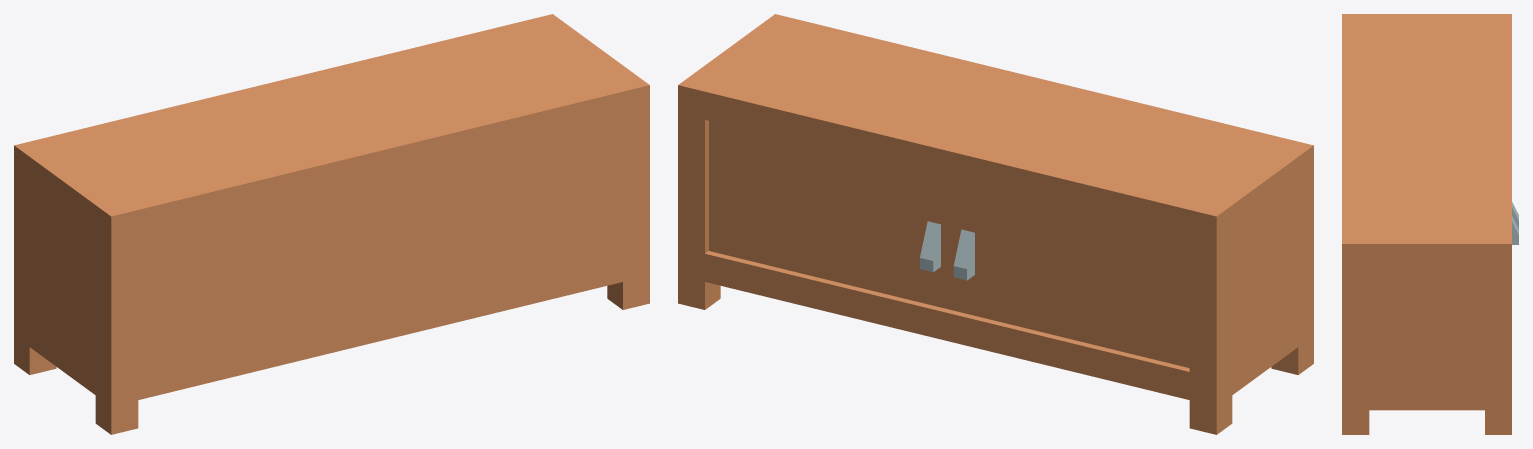
File: cabinetTelevisionDoors.fbx
3 views of the same model, side by side, from view 1: azimuth 30°, elevation 25°; view 2: azimuth 150°, elevation 25°; view 3: azimuth 270°, elevation 25° (orthographic). The views are drawn at different scales.
Visible parts, largest first — view 1: cabinetTelevisionDoors; view 2: cabinetTelevisionDoors, doorLeft, doorRight; view 3: cabinetTelevisionDoors.
Part boxes in pixels (x1=…): cabinetTelevisionDoors: x1=14, y1=14, x2=649, y2=434; cabinetTelevisionDoors: x1=678, y1=14, x2=1313, y2=434; doorLeft: x1=709, y1=121, x2=951, y2=309; doorRight: x1=951, y1=180, x2=1189, y2=367; cabinetTelevisionDoors: x1=1342, y1=14, x2=1511, y2=434.
Bounding box in the file's own units: 8 × 3.1 × 2.6.
